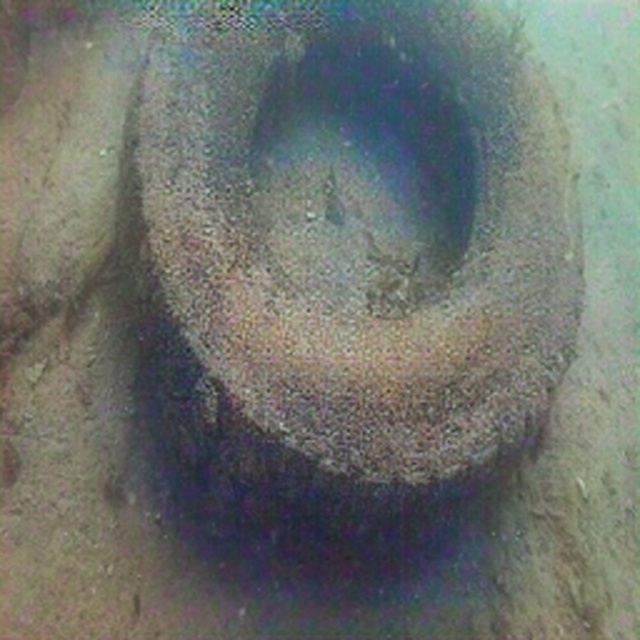mine: (116, 2, 587, 550)
